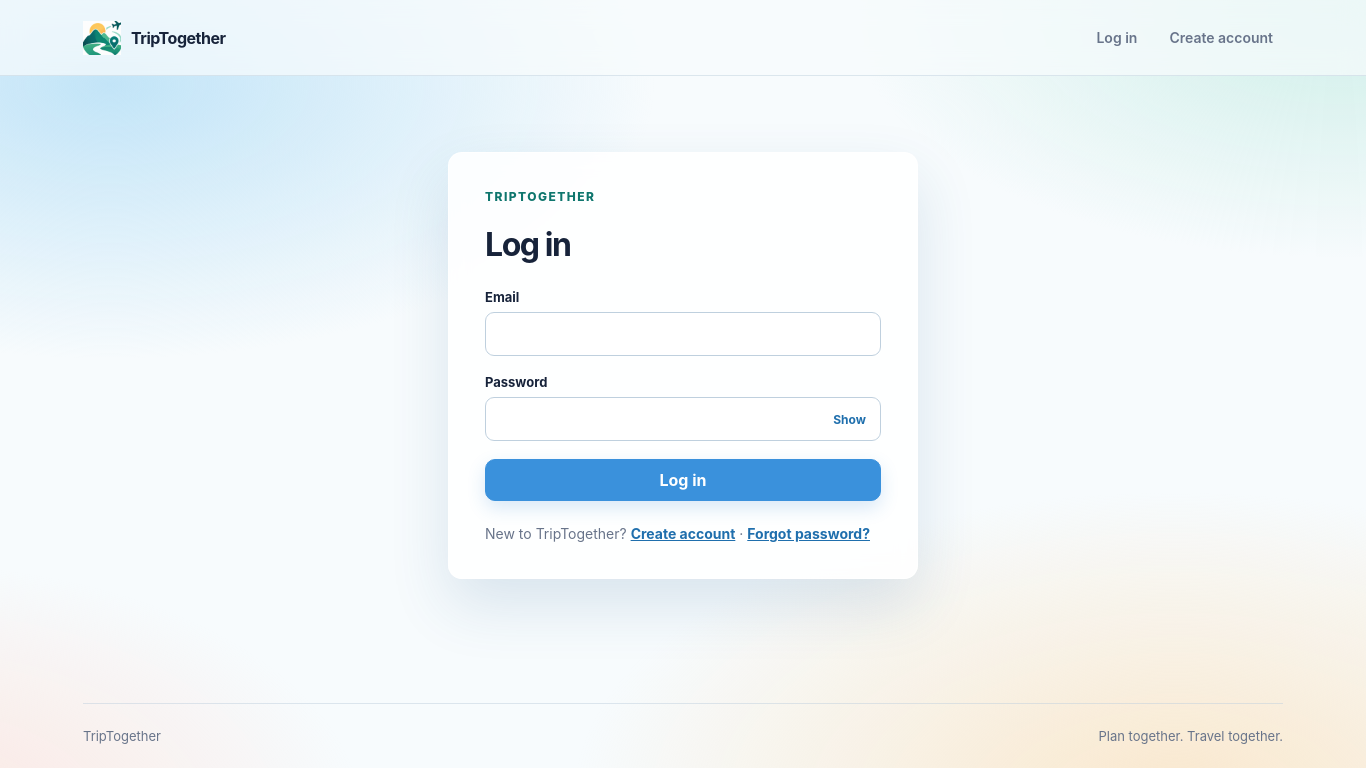
Register and login pages › handles login HTTP 401 safely
In the field labelled "Email": (683, 334) [485, 312, 881, 356], type "reader@example.com"
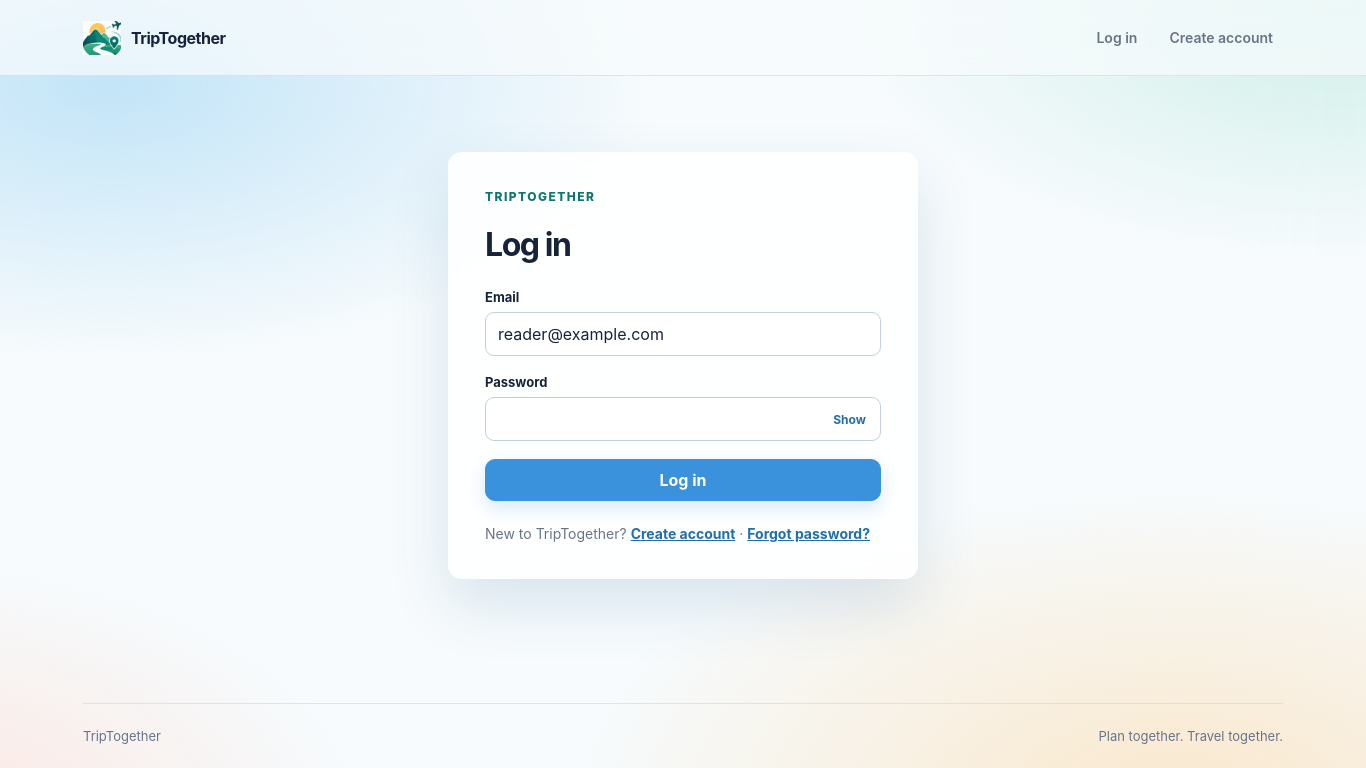
In the password field labelled "Password": (683, 419) [485, 397, 881, 441], type " local-test-input "
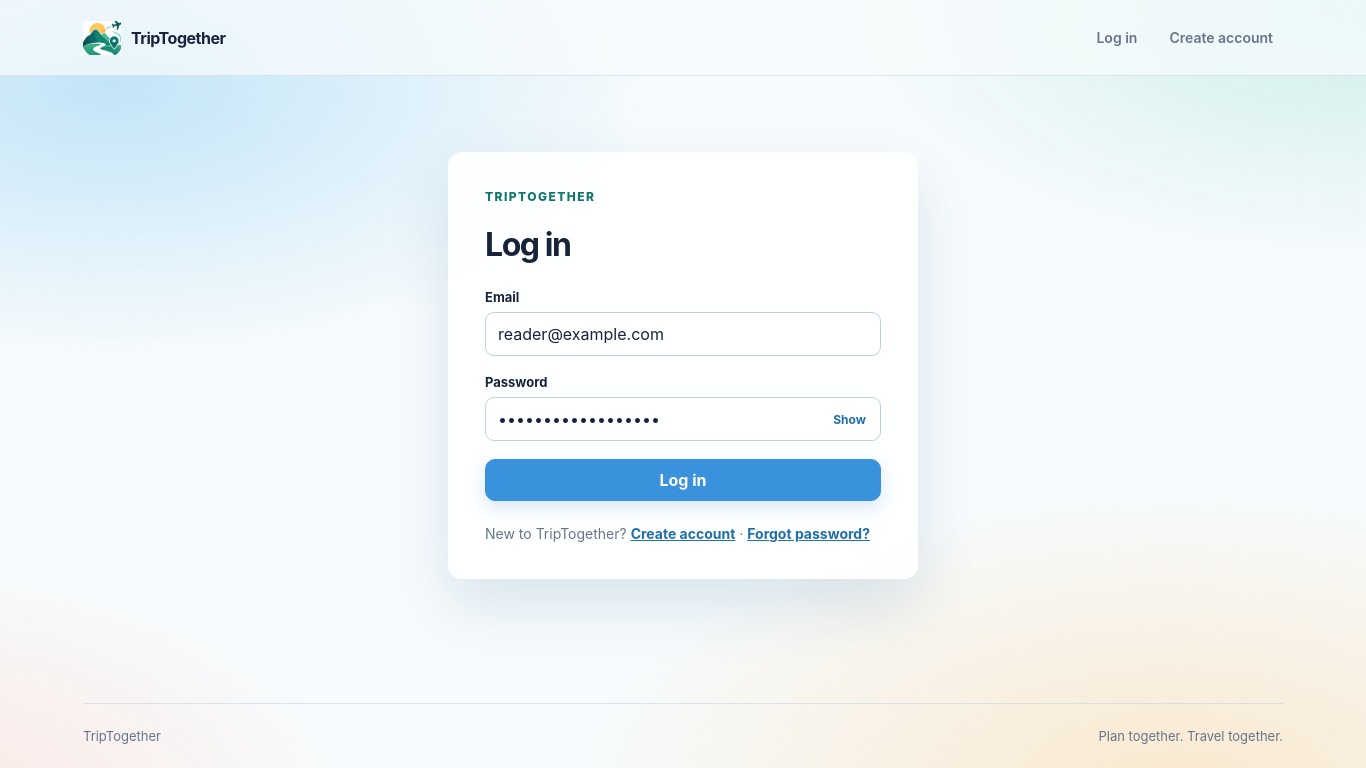
Click the button "Log in": (683, 480) [485, 459, 881, 501]
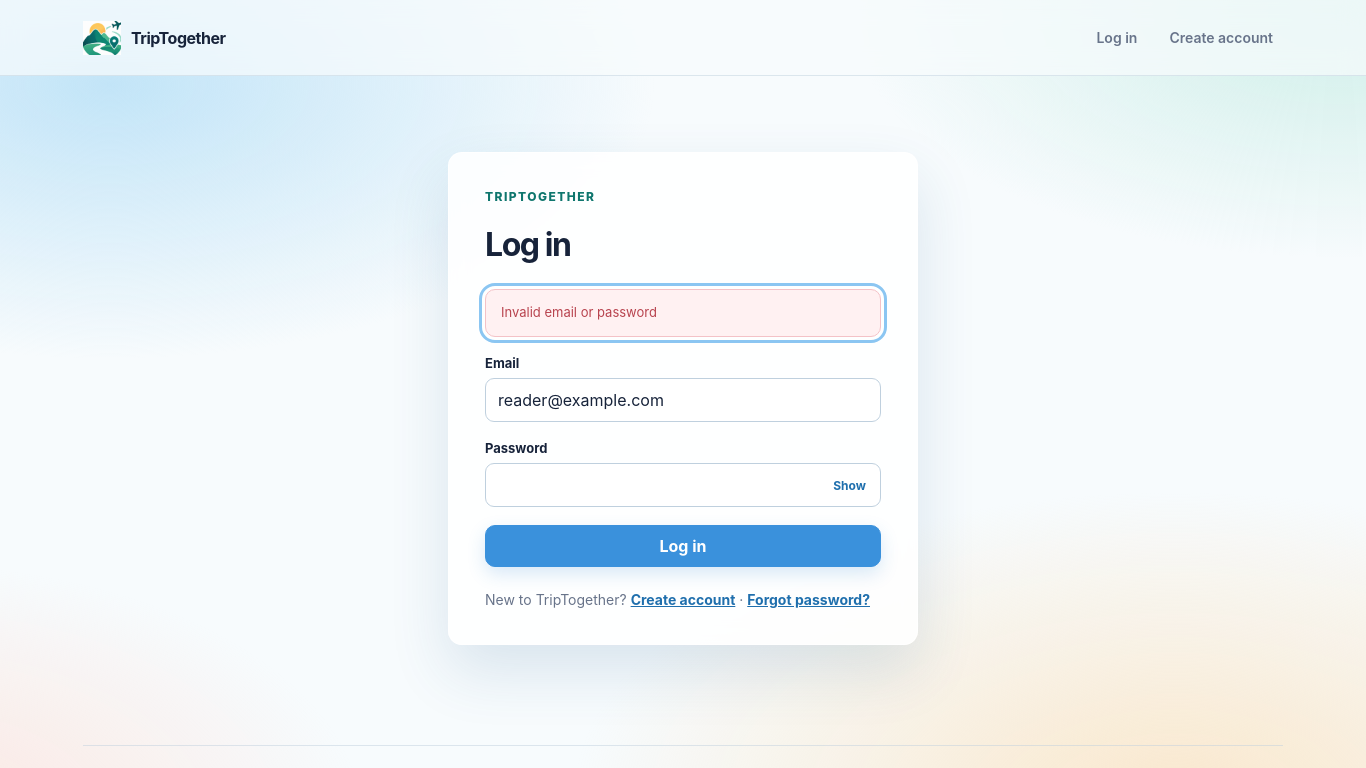
Result: the message reads "Invalid email or password" at [501, 304, 657, 320]
Result: the password field labelled "Password" is empty at [485, 463, 881, 507]
